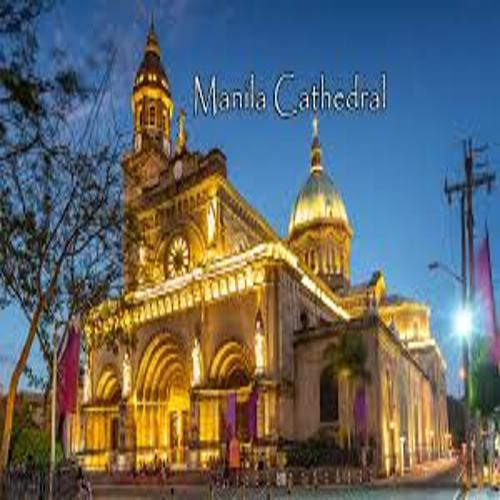Manila Cathedral Church: (68, 17, 457, 478)
